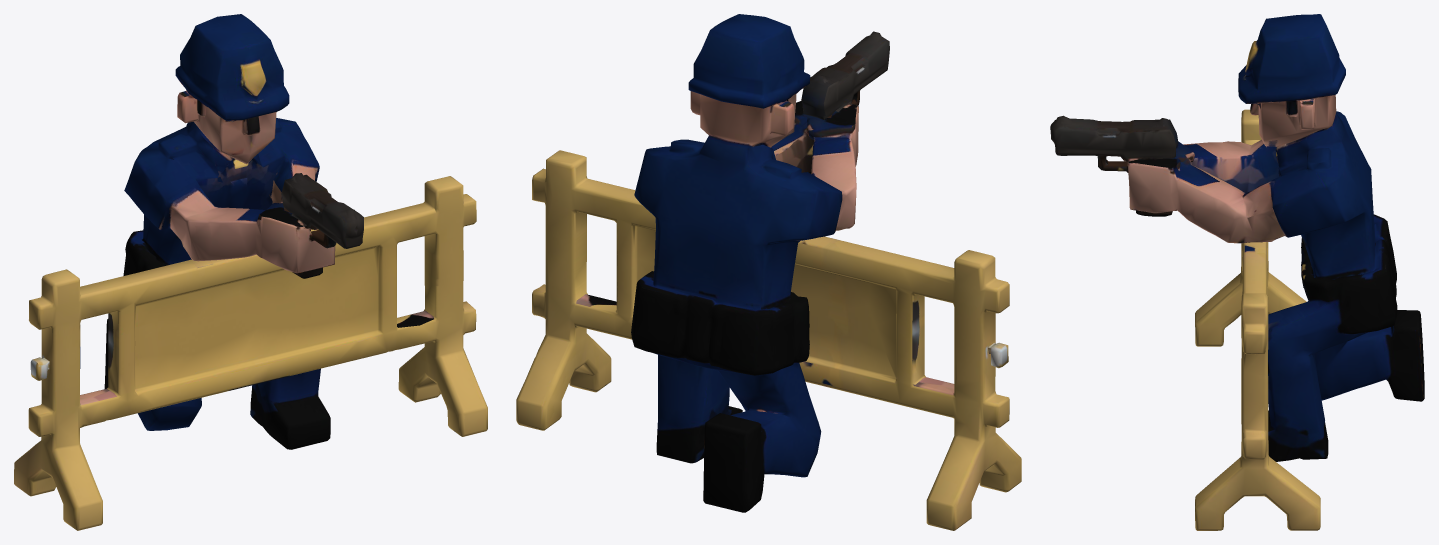
Rendered from Low-Poly-Police-Barrier-Game-Asset-Stylized-3D-Fla.glb.
3 renders of one model, left to right at view 1: azimuth 30°, elevation 25°; view 2: azimuth 150°, elevation 25°; view 3: azimuth 270°, elevation 25°, orthographic. The views are drawn at different scales.
Parts seen in each view (by area): view 1: world; view 2: world; view 3: world.
Part boxes in pixels (x1,y1,x2,y2): world: [14, 14, 487, 530]; world: [516, 14, 1021, 530]; world: [1050, 14, 1424, 530].
Size of the model in its own units: 1.99 by 1.81 by 1.5.
1 material, 1 textured.
